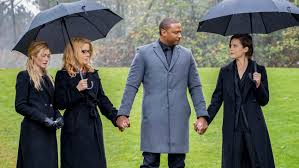Bad: (117, 18, 270, 168), (57, 18, 206, 168), (16, 36, 116, 168)
